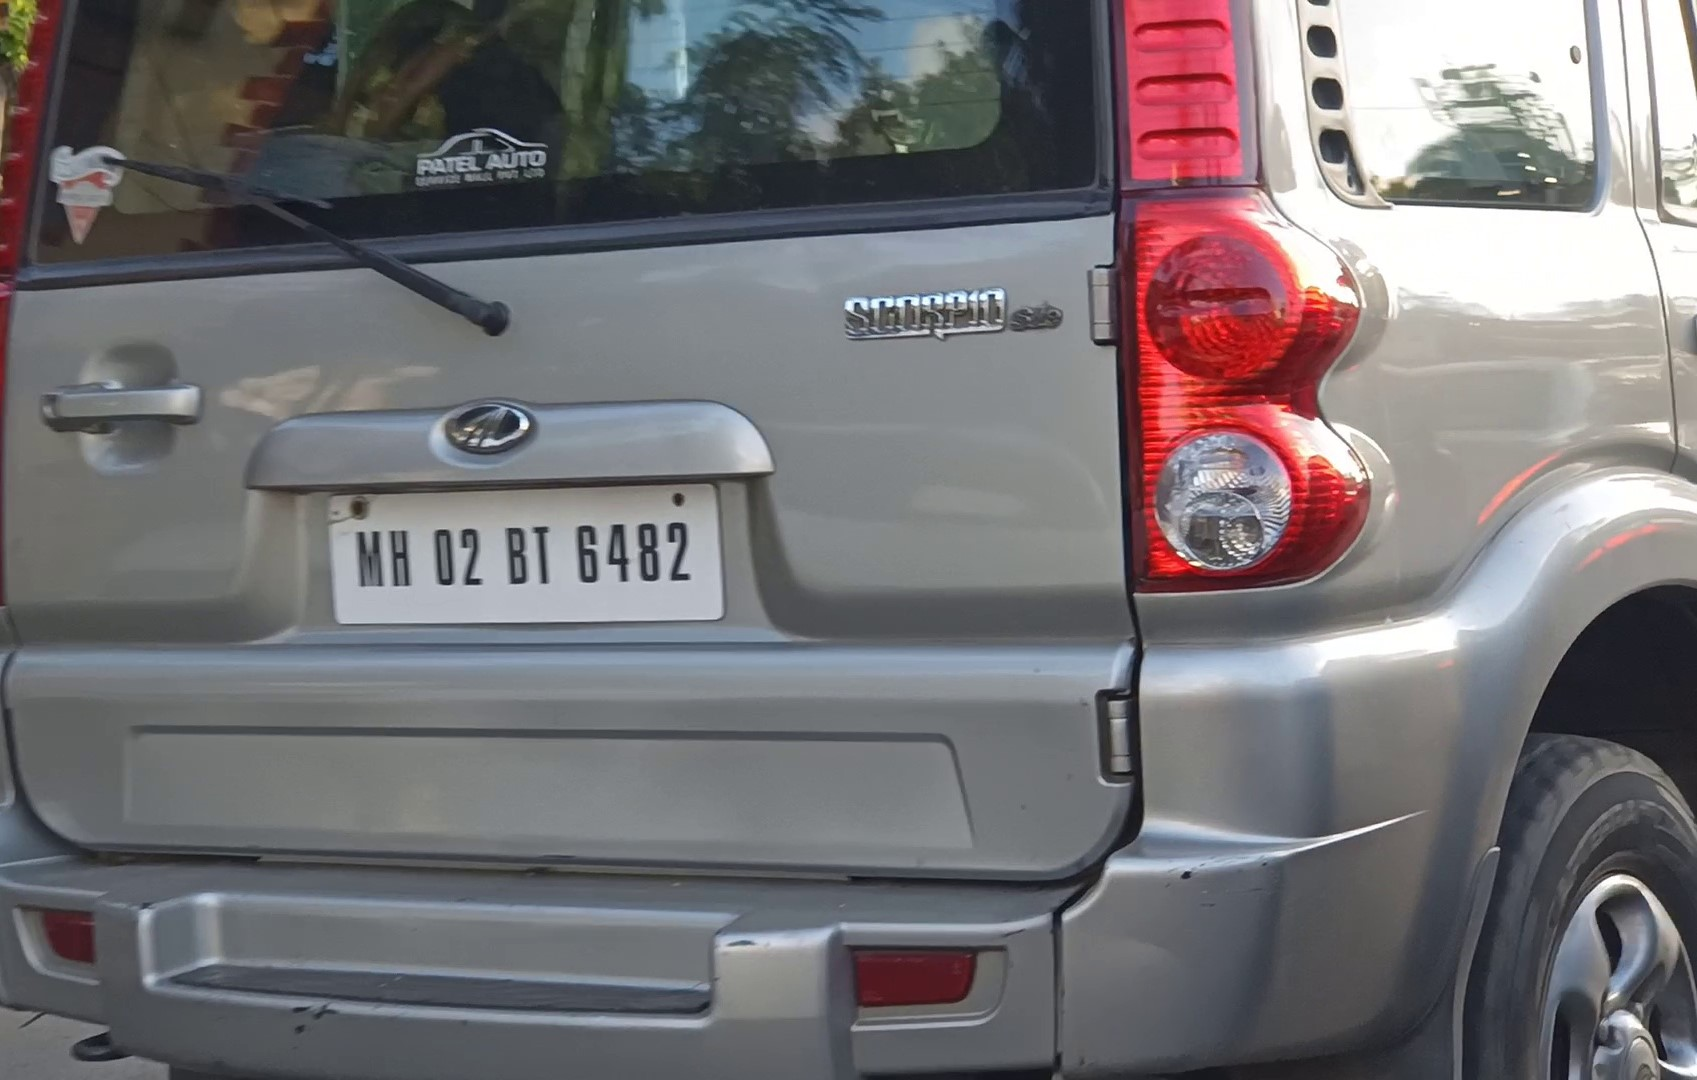MH02BT6482: (328, 482, 728, 623)
